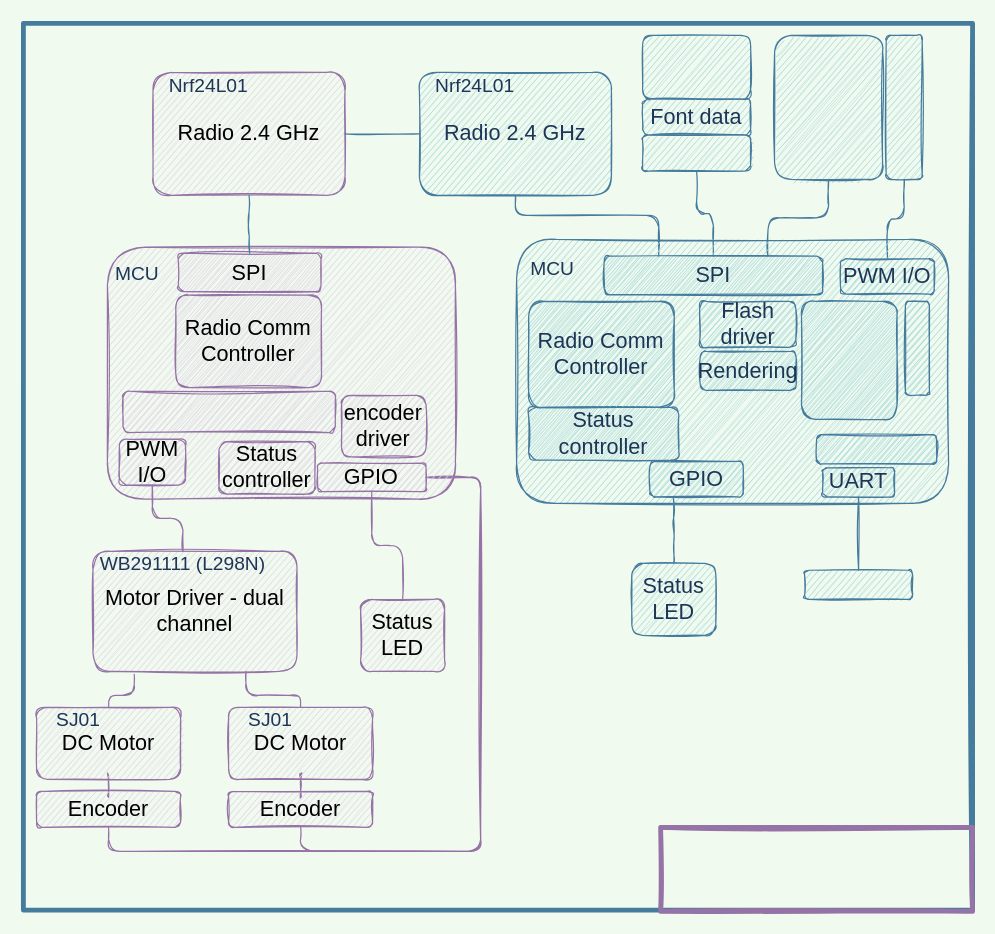
Image size: 995x934. Some labels were removed from this diagram. Each missing label, with the centre of its shape:
"Backlight" goes at point (903, 106).
"Backligt" goes at point (916, 347).
"Debug CLI" goes at point (876, 448).
"Flash" goes at point (696, 66).
"Image data" goes at point (696, 152).
"PID speed regulation" goes at point (228, 411).
"Serial port" goes at point (858, 584).
"Software Block Diagram" goes at point (816, 868).
"Touch screen" goes at point (828, 106).
"Touch screen controller" goes at point (848, 359).
